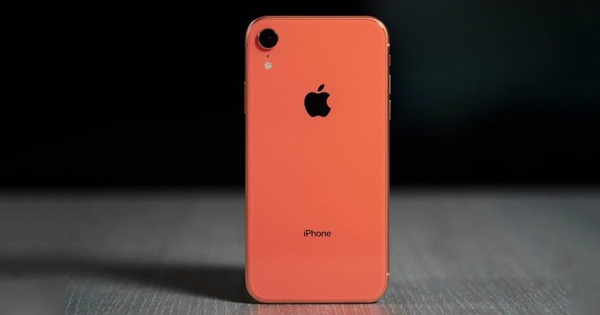apple: (295, 77, 342, 129)
